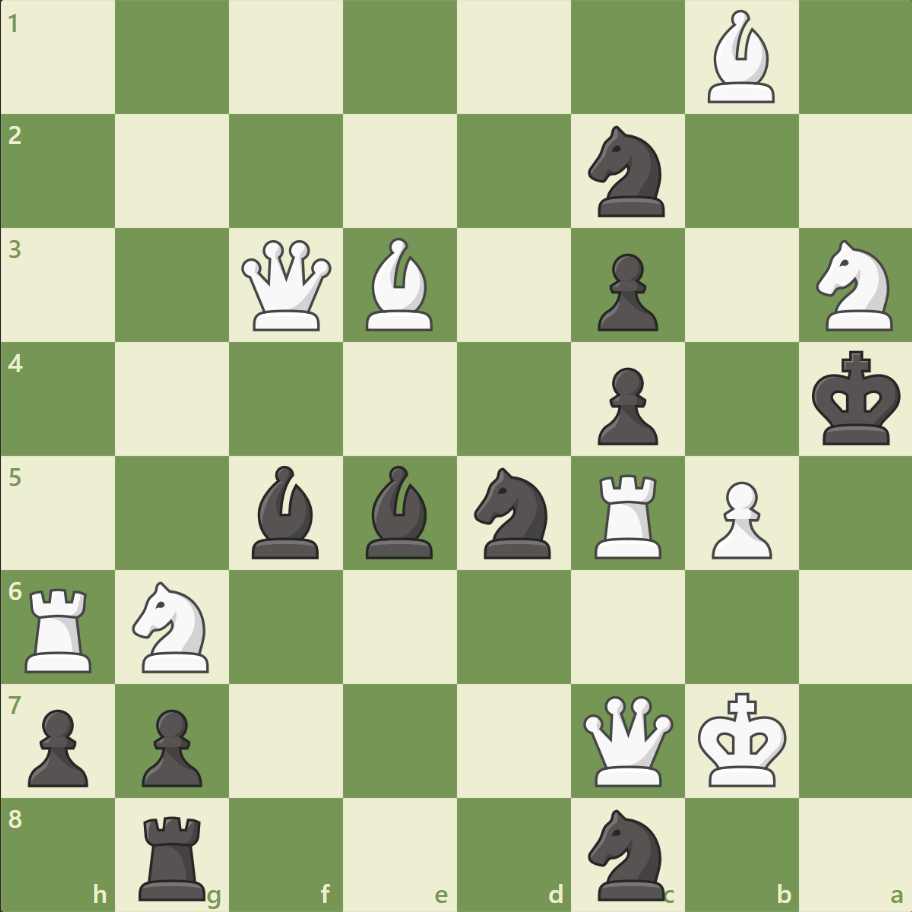B: (358, 233, 442, 336), (698, 6, 782, 109)
K: (692, 685, 792, 793)
N: (124, 575, 222, 677), (806, 234, 903, 337)
P: (701, 473, 776, 564)
Q: (578, 690, 677, 789), (237, 236, 336, 335)
R: (19, 579, 102, 676), (587, 466, 670, 563)
b: (358, 460, 442, 563), (244, 460, 328, 563)
k: (806, 344, 906, 452)
n: (465, 461, 562, 564), (579, 802, 676, 904), (579, 121, 676, 223)
p: (133, 700, 208, 791), (20, 700, 95, 791), (588, 359, 662, 450), (588, 246, 662, 337)
r: (133, 806, 215, 904)
